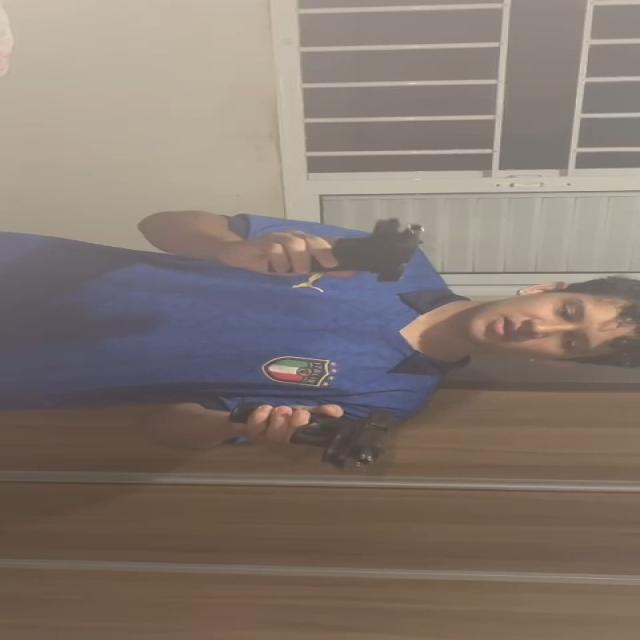gun: (318, 215, 434, 282), (290, 410, 395, 468)
